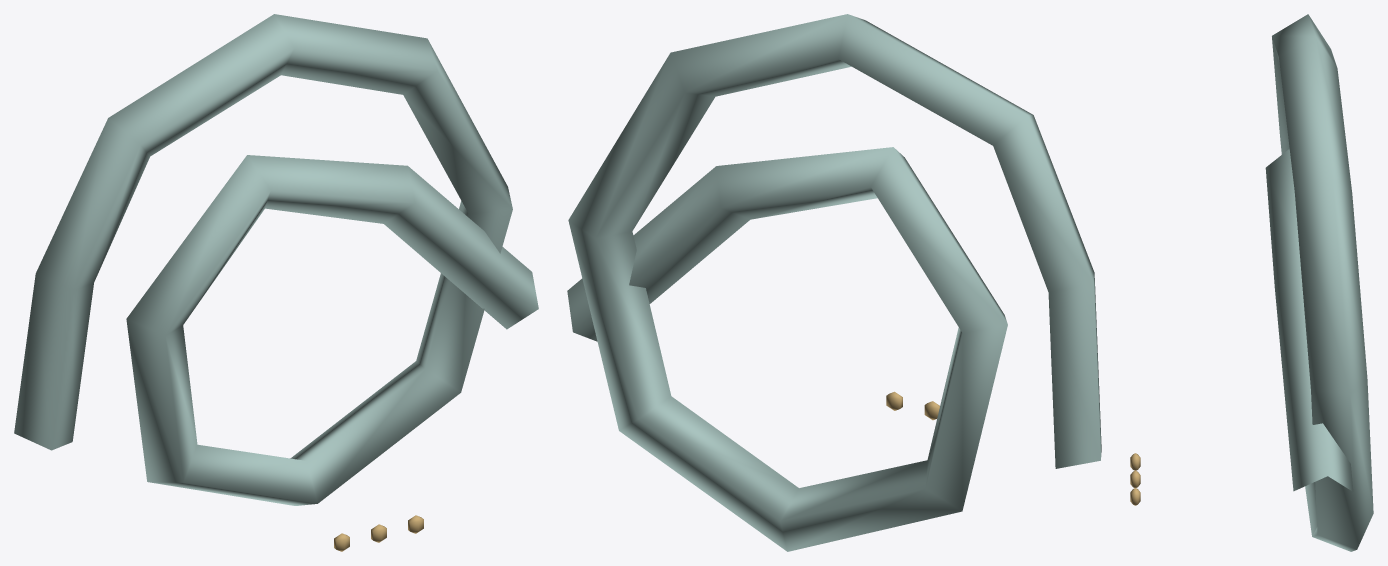
The picture shows the model from 3 angles, left to right: view 1: azimuth 30°, elevation 25°; view 2: azimuth 150°, elevation 25°; view 3: azimuth 270°, elevation 25°; orthographic projection. The views are drawn at different scales.
Parts seen in each view (by area): view 1: g_s44; view 2: g_s44; view 3: g_s44.
Part boxes in pixels (x1,y1,x2,y2): g_s44: (14,14,538,551); g_s44: (567,14,1101,551); g_s44: (1130,14,1373,551).
Bounding box in the file's own units: 0.4894 × 0.4665 × 0.207.
